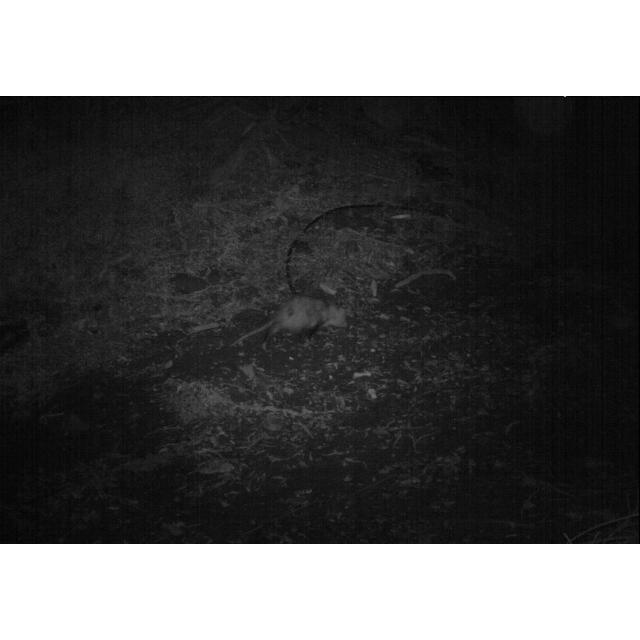animals: (244, 293, 356, 343)
